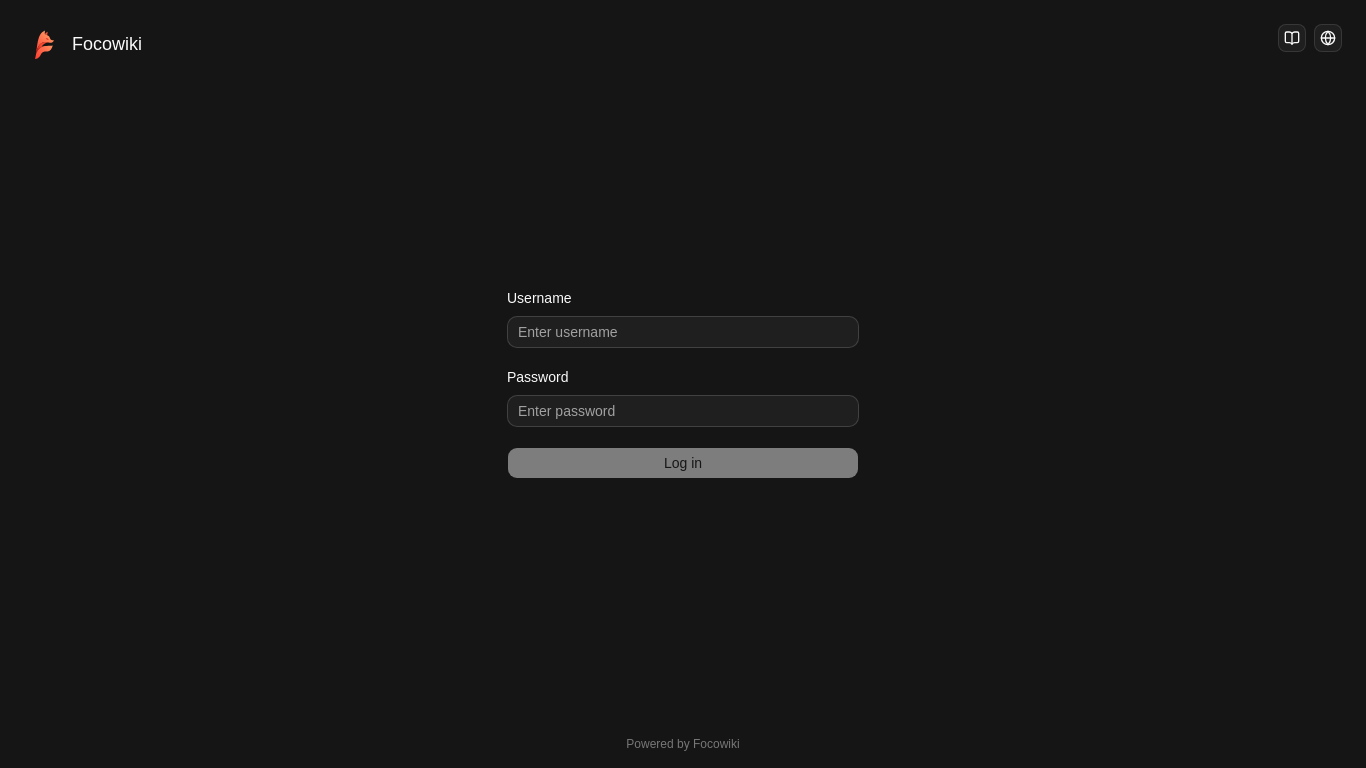
Scenario: Admin knowledge base home › recovers after the knowledge base list response is malformed
Type "admin" into the field labelled "Username" at (683, 332), box [507, 316, 859, 348]
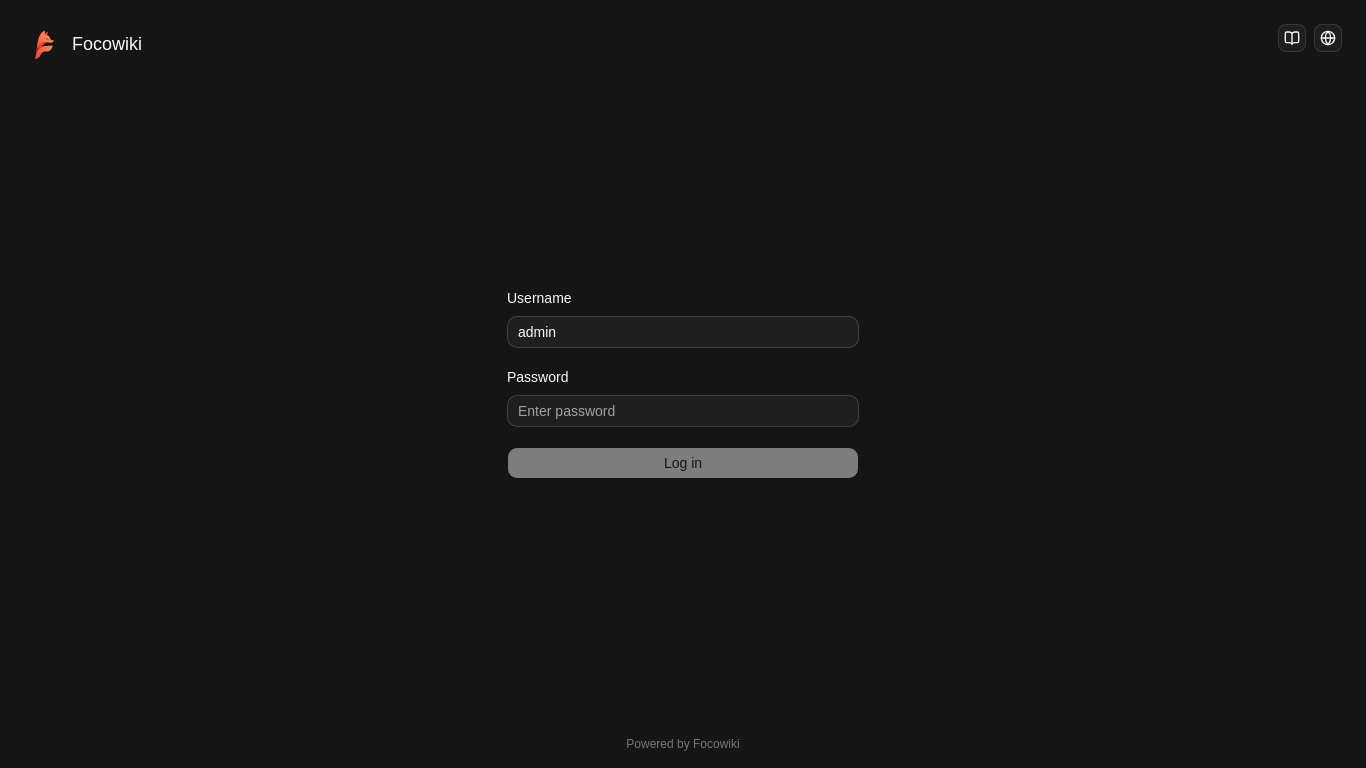
Type "admin-secret" into the password field labelled "Password" at (683, 411), box [507, 395, 859, 427]
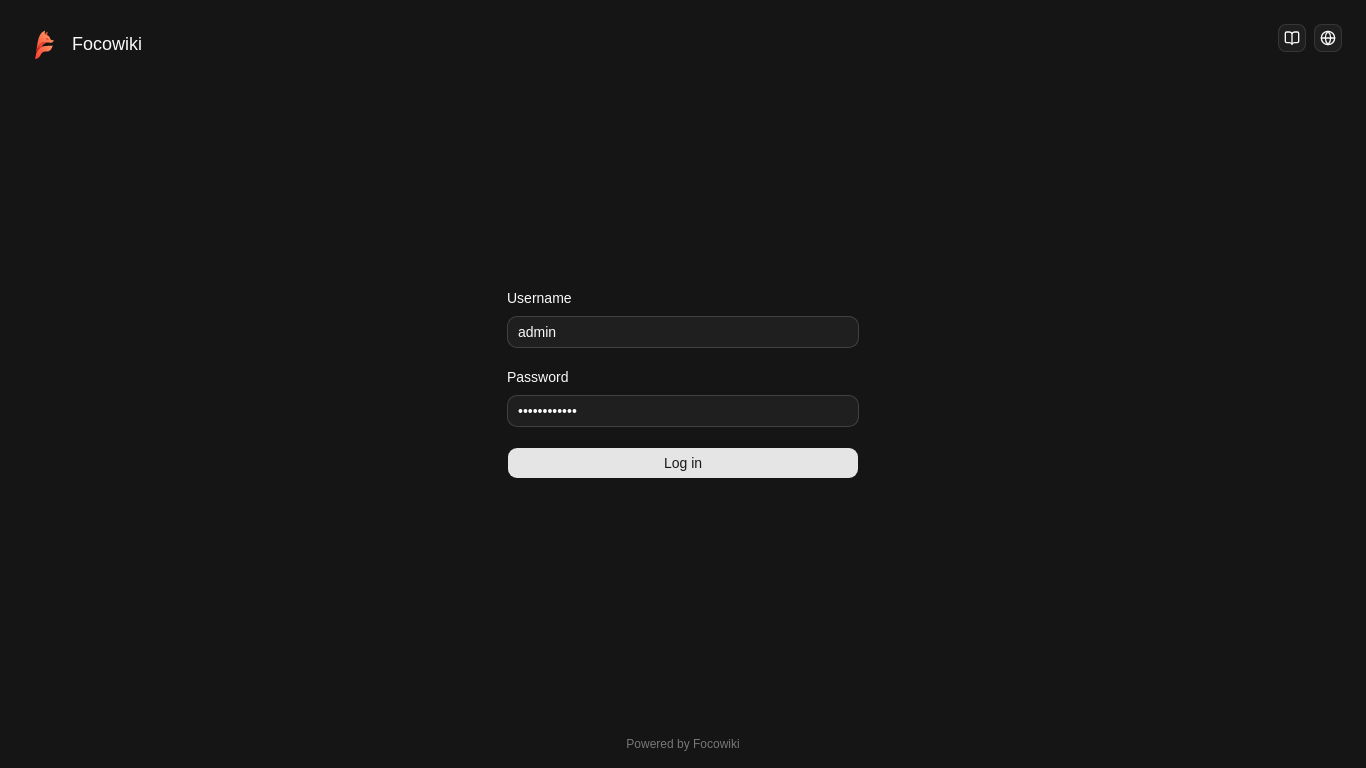
Click the button "Log in" at (683, 463), box [507, 447, 859, 479]
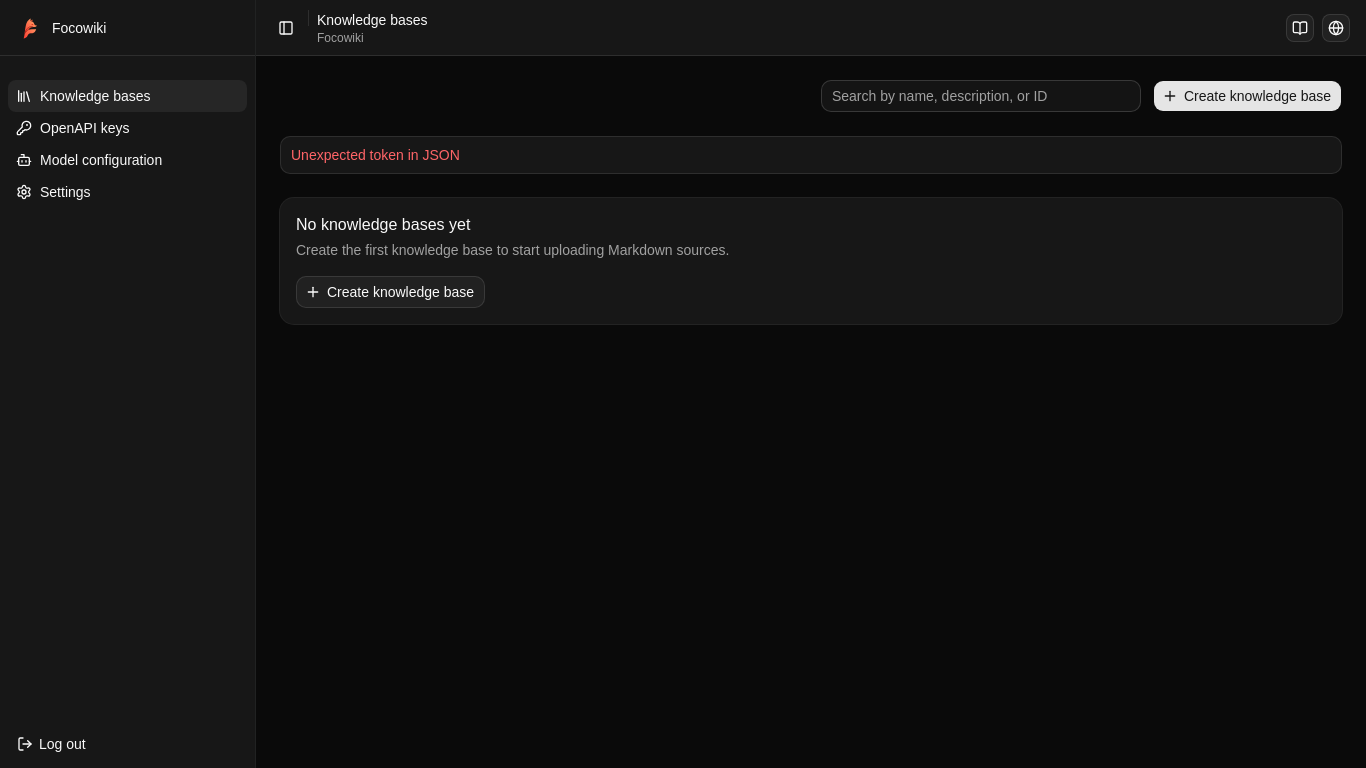
Expected: the text "No knowledge bases yet" is shown, [296, 216, 470, 233]
Type "recovered" into the field named "Search knowledge bases" at (981, 96), box [821, 80, 1141, 112]
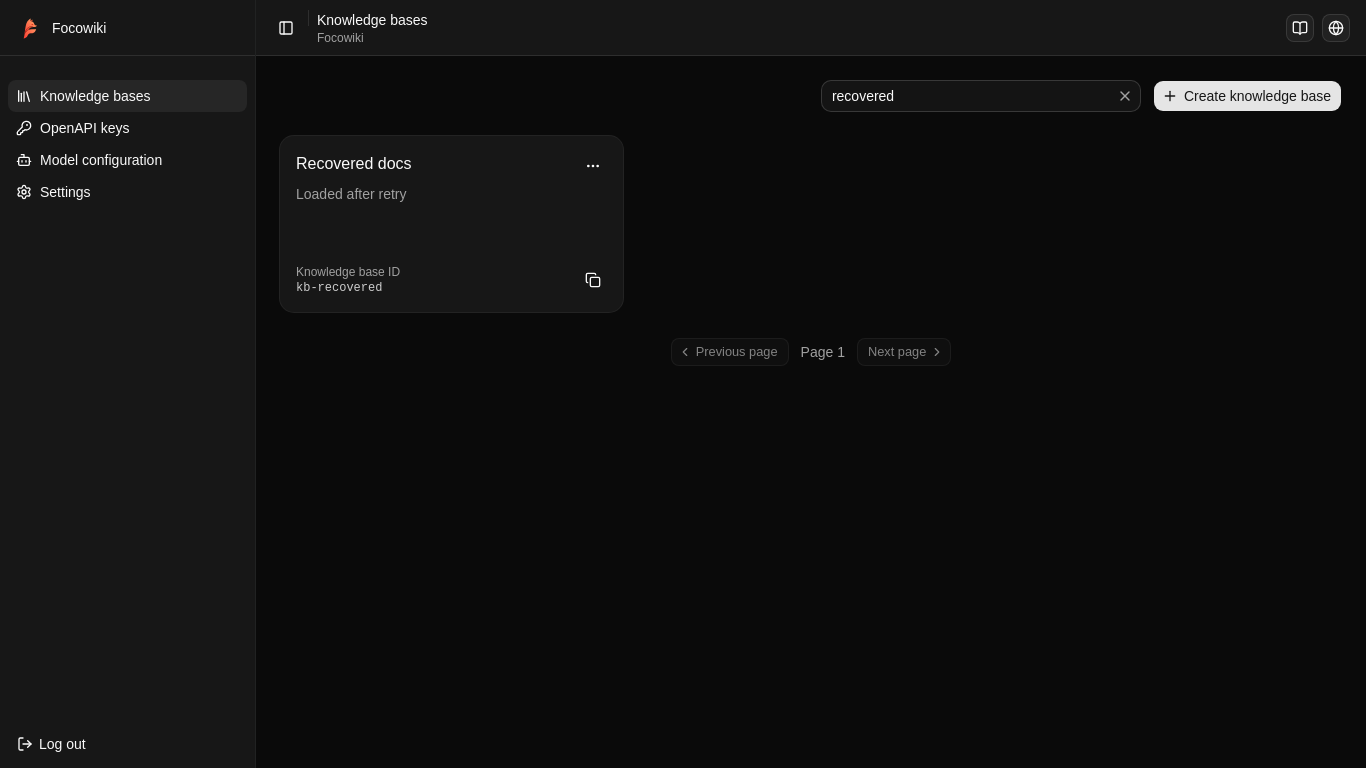
Expected: the button named "Recovered docs" is shown, [280, 136, 623, 312]
